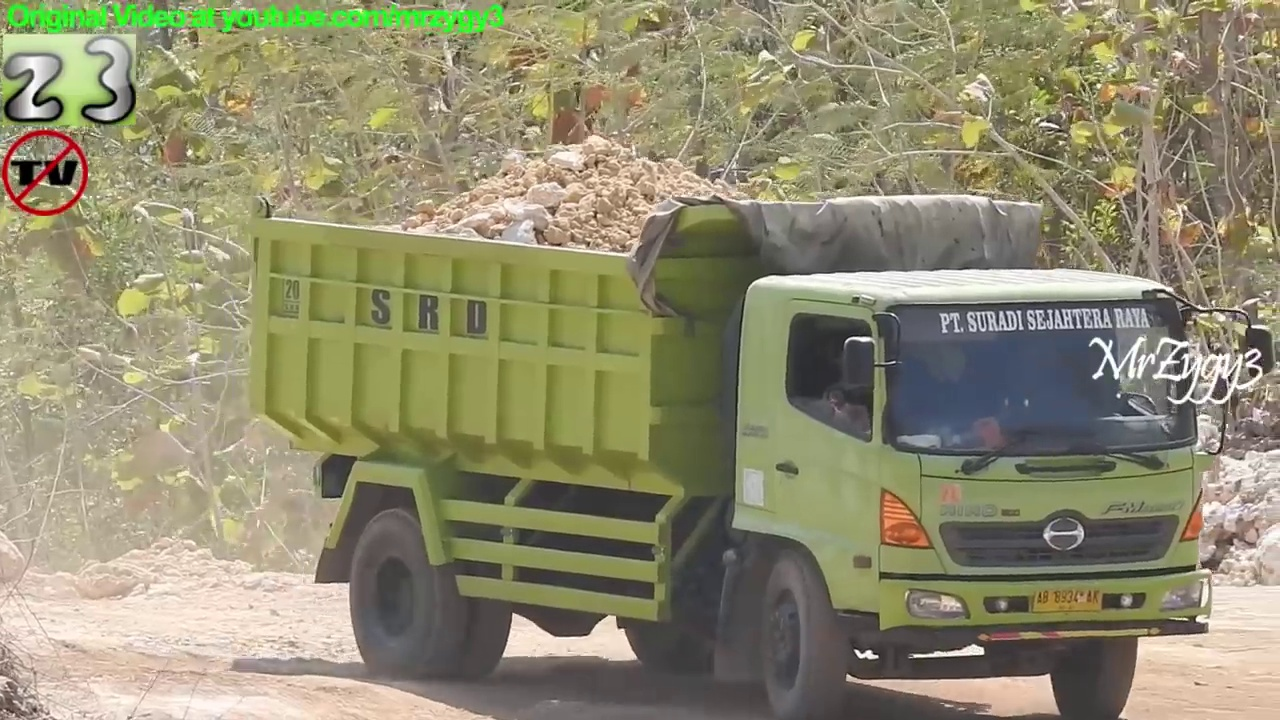truck: (238, 183, 1280, 720)
